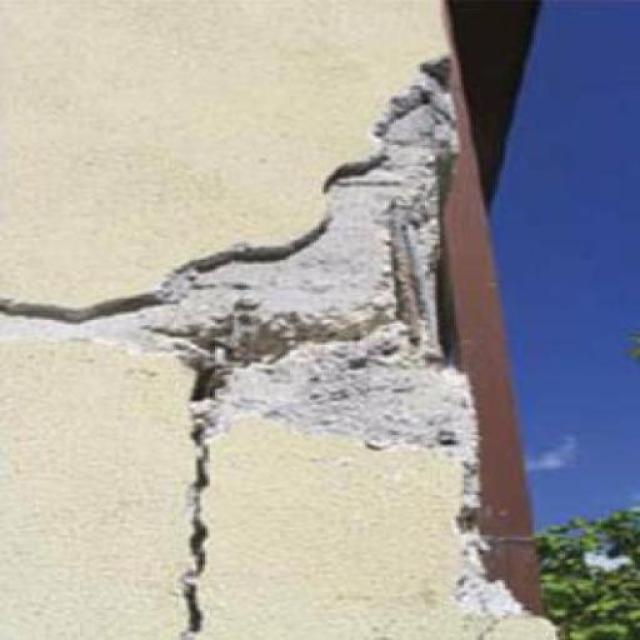D10: (0, 62, 472, 461)
